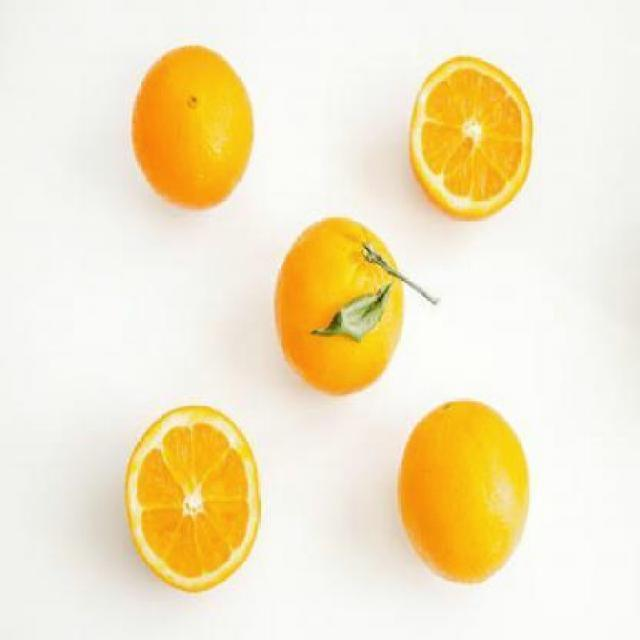Jeruk Sudah Matang: (402, 394, 530, 580), (277, 220, 405, 392), (132, 42, 252, 208)
